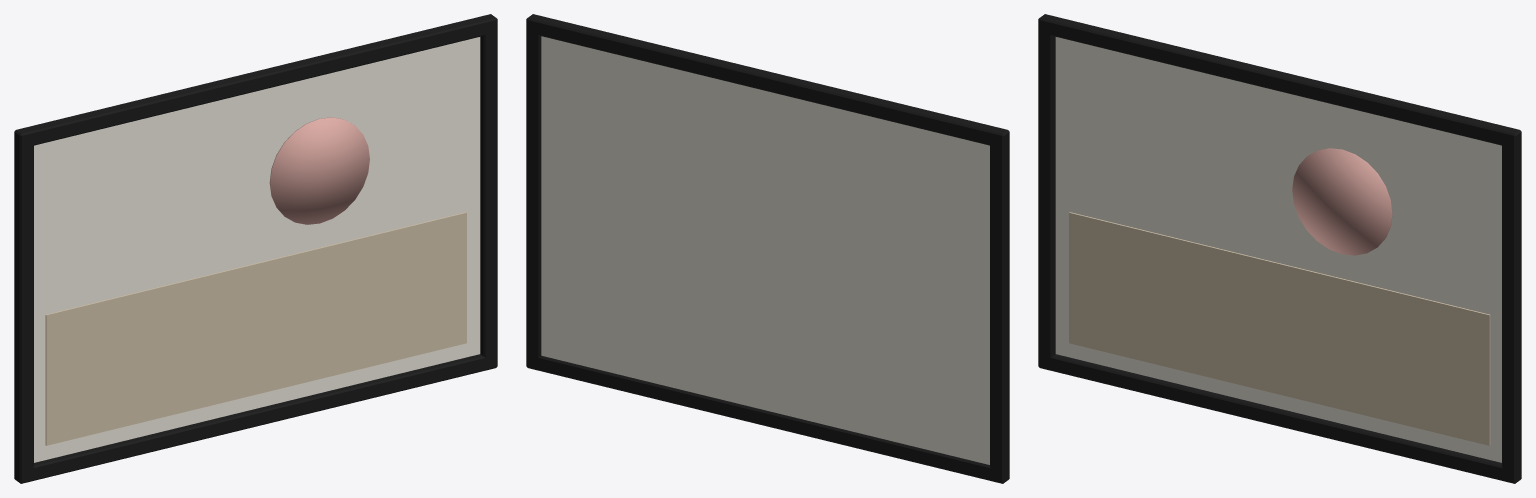
Rendered from i_pic_4.glb.
3 renders of one model, left to right at view 1: azimuth 30°, elevation 25°; view 2: azimuth 150°, elevation 25°; view 3: azimuth 330°, elevation 25°, orthographic.
Parts seen in each view (by area): view 1: o.004, o.005, o.001, o, o.006, o.002, o.003; view 2: o.004, o.001, o, o.002, o.003; view 3: o.004, o.005, o.001, o, o.006, o.003, o.002.
Boxes of the visible parts, <box> form: o.004: <box>34,37,480,462</box>; o.005: <box>45,212,466,445</box>; o.001: <box>14,14,497,147</box>; o: <box>25,354,497,482</box>; o.006: <box>269,117,369,224</box>; o.002: <box>14,130,33,483</box>; o.003: <box>480,31,497,368</box>; o.004: <box>541,36,989,464</box>; o.001: <box>527,14,1009,147</box>; o: <box>526,355,1001,483</box>; o.002: <box>990,130,1009,483</box>; o.003: <box>526,19,541,369</box>; o.004: <box>1055,37,1501,462</box>; o.005: <box>1069,212,1490,445</box>; o.001: <box>1039,14,1521,147</box>; o: <box>1038,354,1513,483</box>; o.006: <box>1292,148,1392,255</box>; o.003: <box>1502,129,1521,483</box>; o.002: <box>1038,19,1055,369</box>.
Bounding box in the file's own units: 1 × 0.7 × 0.025.
